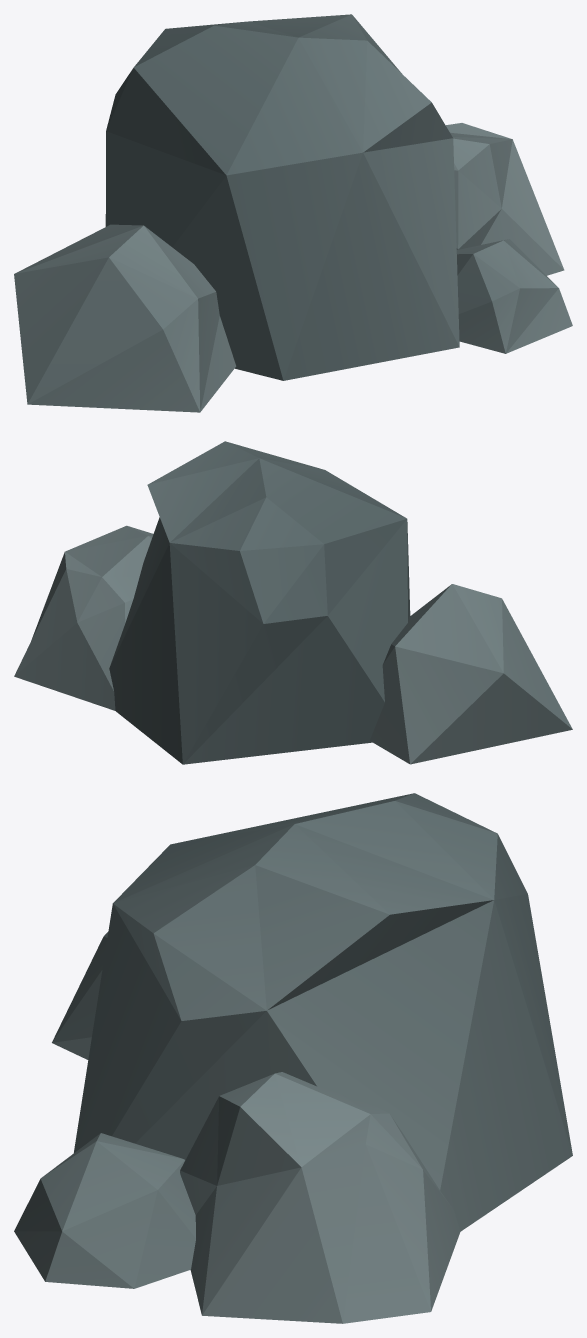
Rendered from Stone_Pile.fbx.
3 renders of one model, top to bottom at view 1: azimuth 30°, elevation 25°; view 2: azimuth 150°, elevation 25°; view 3: azimuth 270°, elevation 25°, orthographic. The views are drawn at different scales.
Parts seen in each view (by area): view 1: Stone_Pile; view 2: Stone_Pile; view 3: Stone_Pile.
Boxes of the visible parts, bbox=[...] form: Stone_Pile: bbox=[14, 14, 572, 412]; Stone_Pile: bbox=[14, 441, 572, 764]; Stone_Pile: bbox=[14, 793, 572, 1323].
Size of the model in its own units: 1.5 by 0.68 by 1.
Materials: 1 (1 with a texture image).
